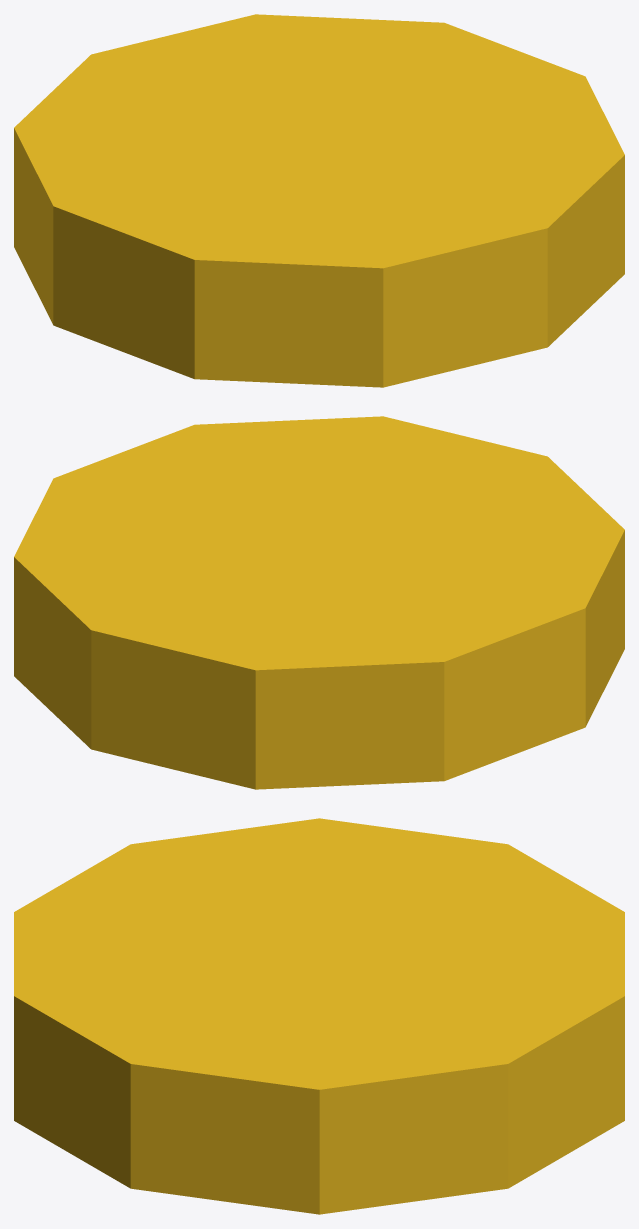
Rendered from puck.glb.
The picture shows the model from 3 angles, top to bottom: view 1: azimuth 30°, elevation 25°; view 2: azimuth 150°, elevation 25°; view 3: azimuth 270°, elevation 25°; orthographic projection. The views are drawn at different scales.
Parts seen in each view (by area): view 1: Puck; view 2: Puck; view 3: Puck.
Part boxes in pixels (x1,y1,x2,y2): Puck: (14,14,624,387); Puck: (14,416,624,789); Puck: (14,818,624,1214).
Bounding box in the file's own units: 0.28 × 0.06 × 0.2663.
